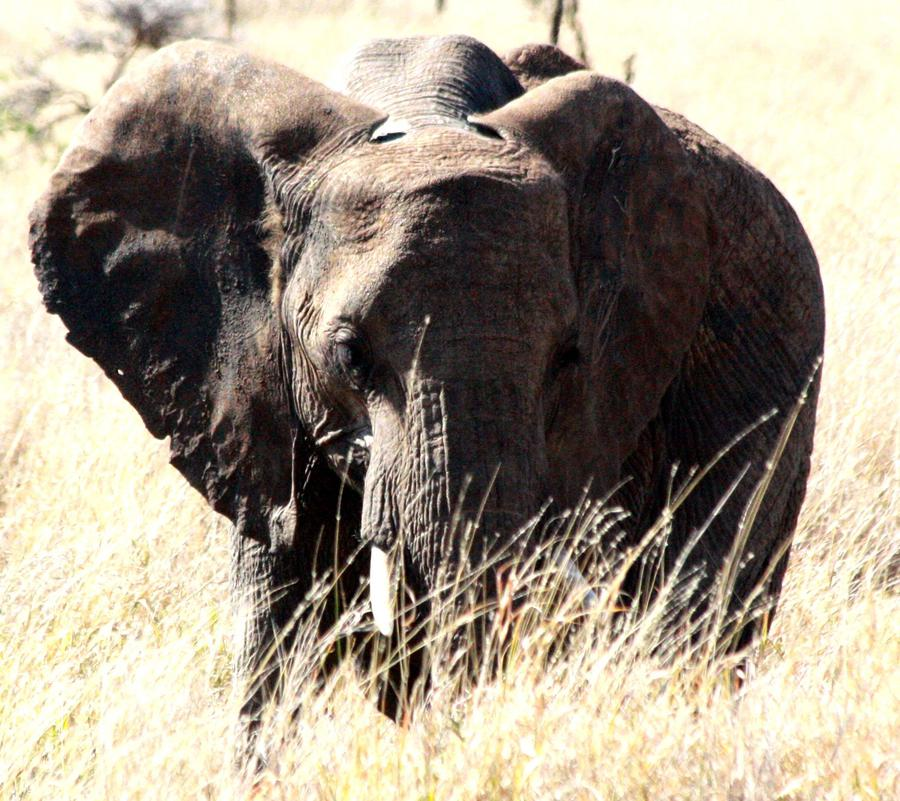elephant: (83, 49, 685, 587)
